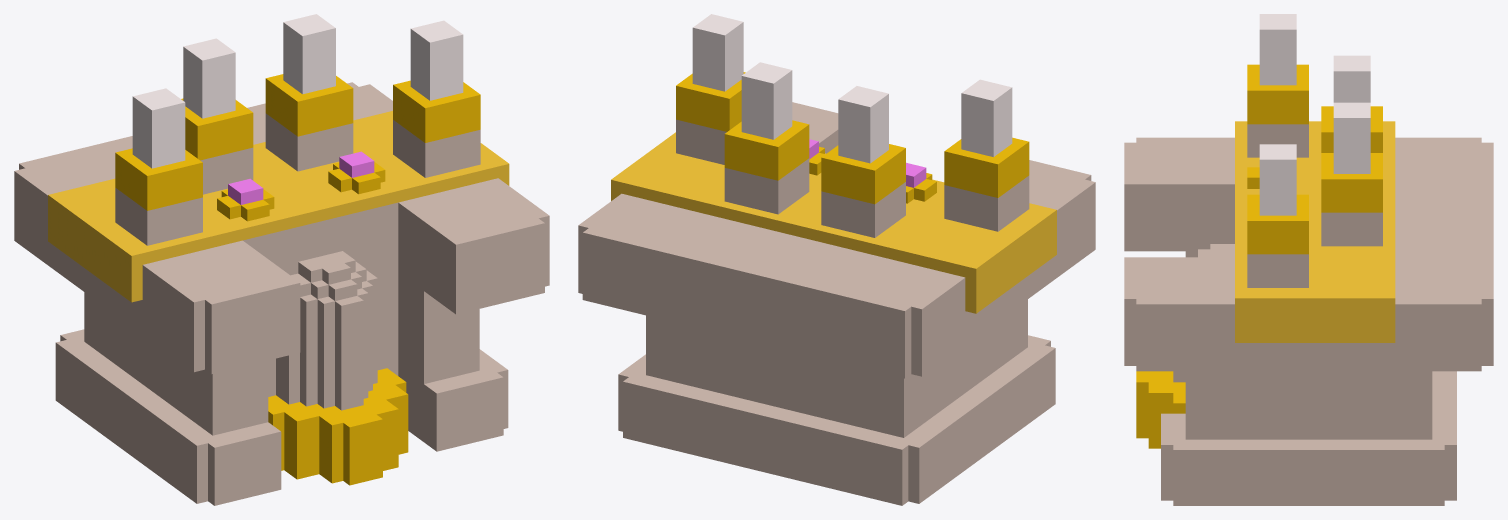
The picture shows the model from 3 angles, left to right: view 1: azimuth 30°, elevation 25°; view 2: azimuth 150°, elevation 25°; view 3: azimuth 270°, elevation 25°; orthographic projection. The views are drawn at different scales.
Visible parts, largest first — view 1: L014, L011, L5, L012, L013; view 2: L014, L5, L011, L012, L013; view 3: L014, L5, L011, L012.
Boxes of the visible parts, <box> form: L014: <box>14,82,549,505</box>; L011: <box>115,74,480,485</box>; L5: <box>48,111,509,302</box>; L012: <box>132,14,463,168</box>; L013: <box>228,151,374,204</box>; L014: <box>578,102,1095,505</box>; L5: <box>611,132,1056,313</box>; L011: <box>676,72,1029,204</box>; L012: <box>692,14,1012,163</box>; L013: <box>809,139,926,187</box>; L014: <box>1124,124,1493,505</box>; L5: <box>1235,121,1395,342</box>; L011: <box>1136,64,1382,448</box>; L012: <box>1259,14,1370,215</box>.
Bounding box in the file's own units: 340 × 310 × 300.
Materials: 5 (5 with a texture image).
